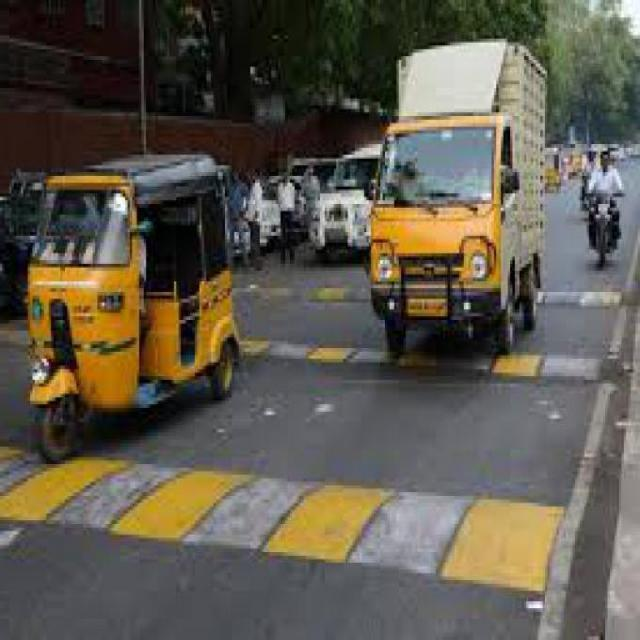speedbreaker: (1, 433, 568, 612), (238, 338, 629, 382)
